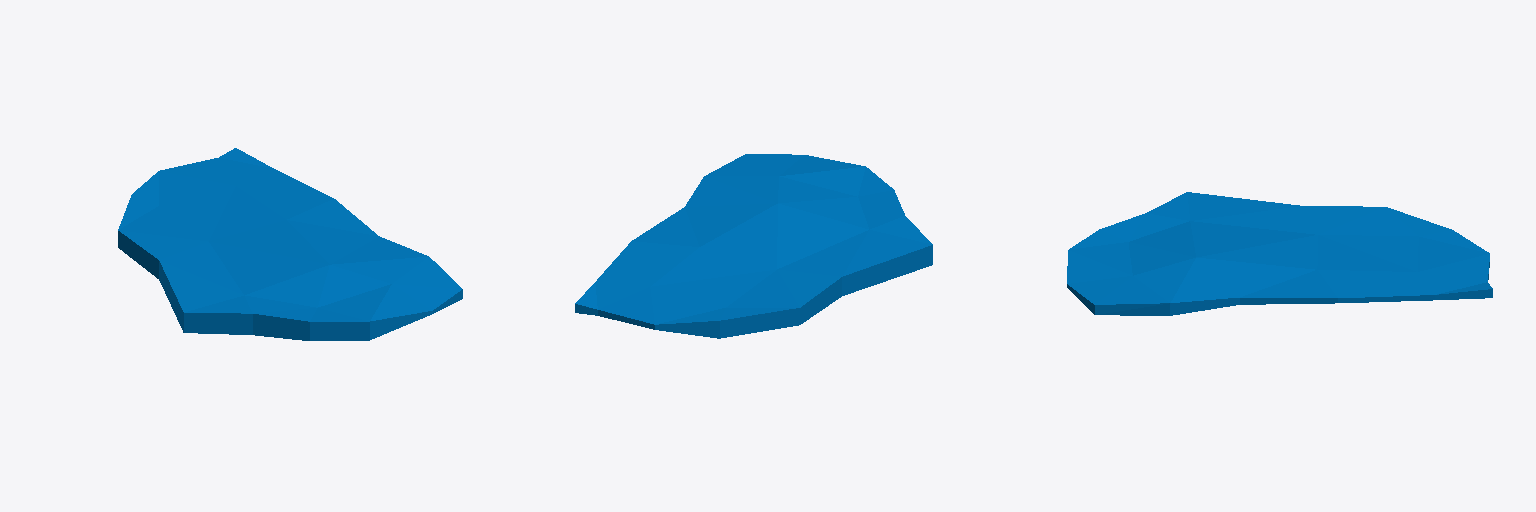
Rendered from Beach_Organic_Water.obj.
3 renders of one model, left to right at view 1: azimuth 30°, elevation 25°; view 2: azimuth 150°, elevation 25°; view 3: azimuth 270°, elevation 25°, orthographic.
Visible parts, largest first — view 1: Island_Grass.001; view 2: Island_Grass.001; view 3: Island_Grass.001.
Boxes of the visible parts, box(x1,y1,x2,y2) form: Island_Grass.001: box(118, 148, 462, 340); Island_Grass.001: box(575, 154, 932, 338); Island_Grass.001: box(1067, 192, 1492, 315).
Size of the model in its own units: 13.78 by 1.57 by 21.43.